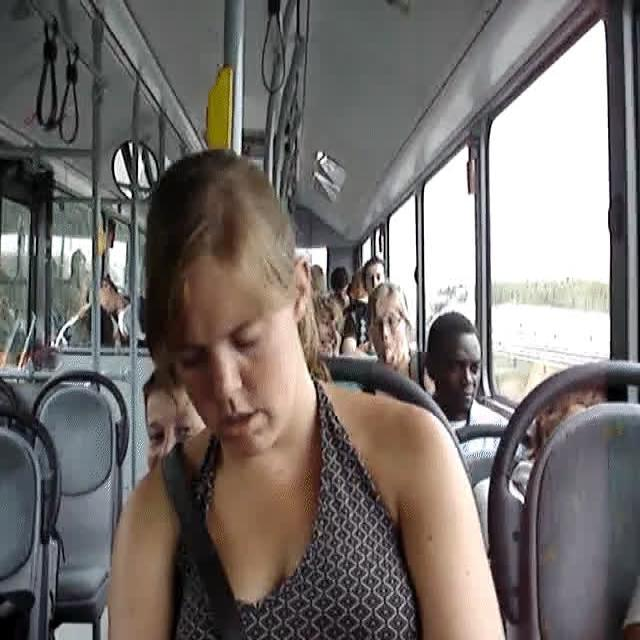no-seatbelt: (141, 148, 317, 463)
